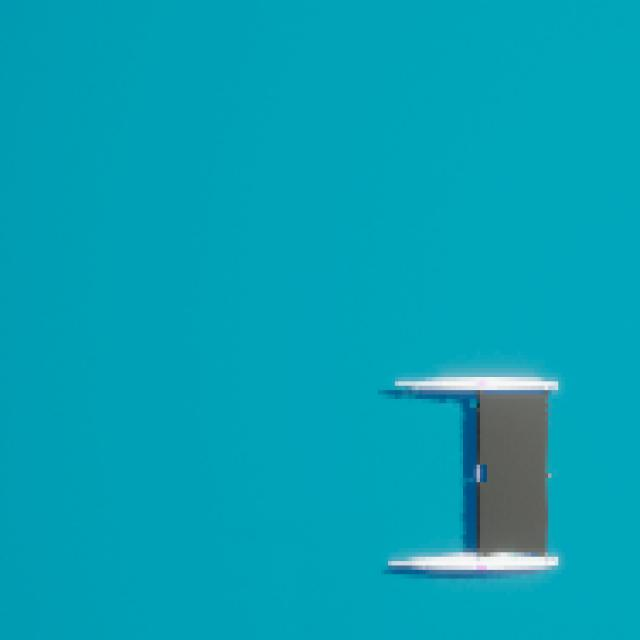boat: (385, 372, 563, 584)
drone: (478, 392, 550, 554)
